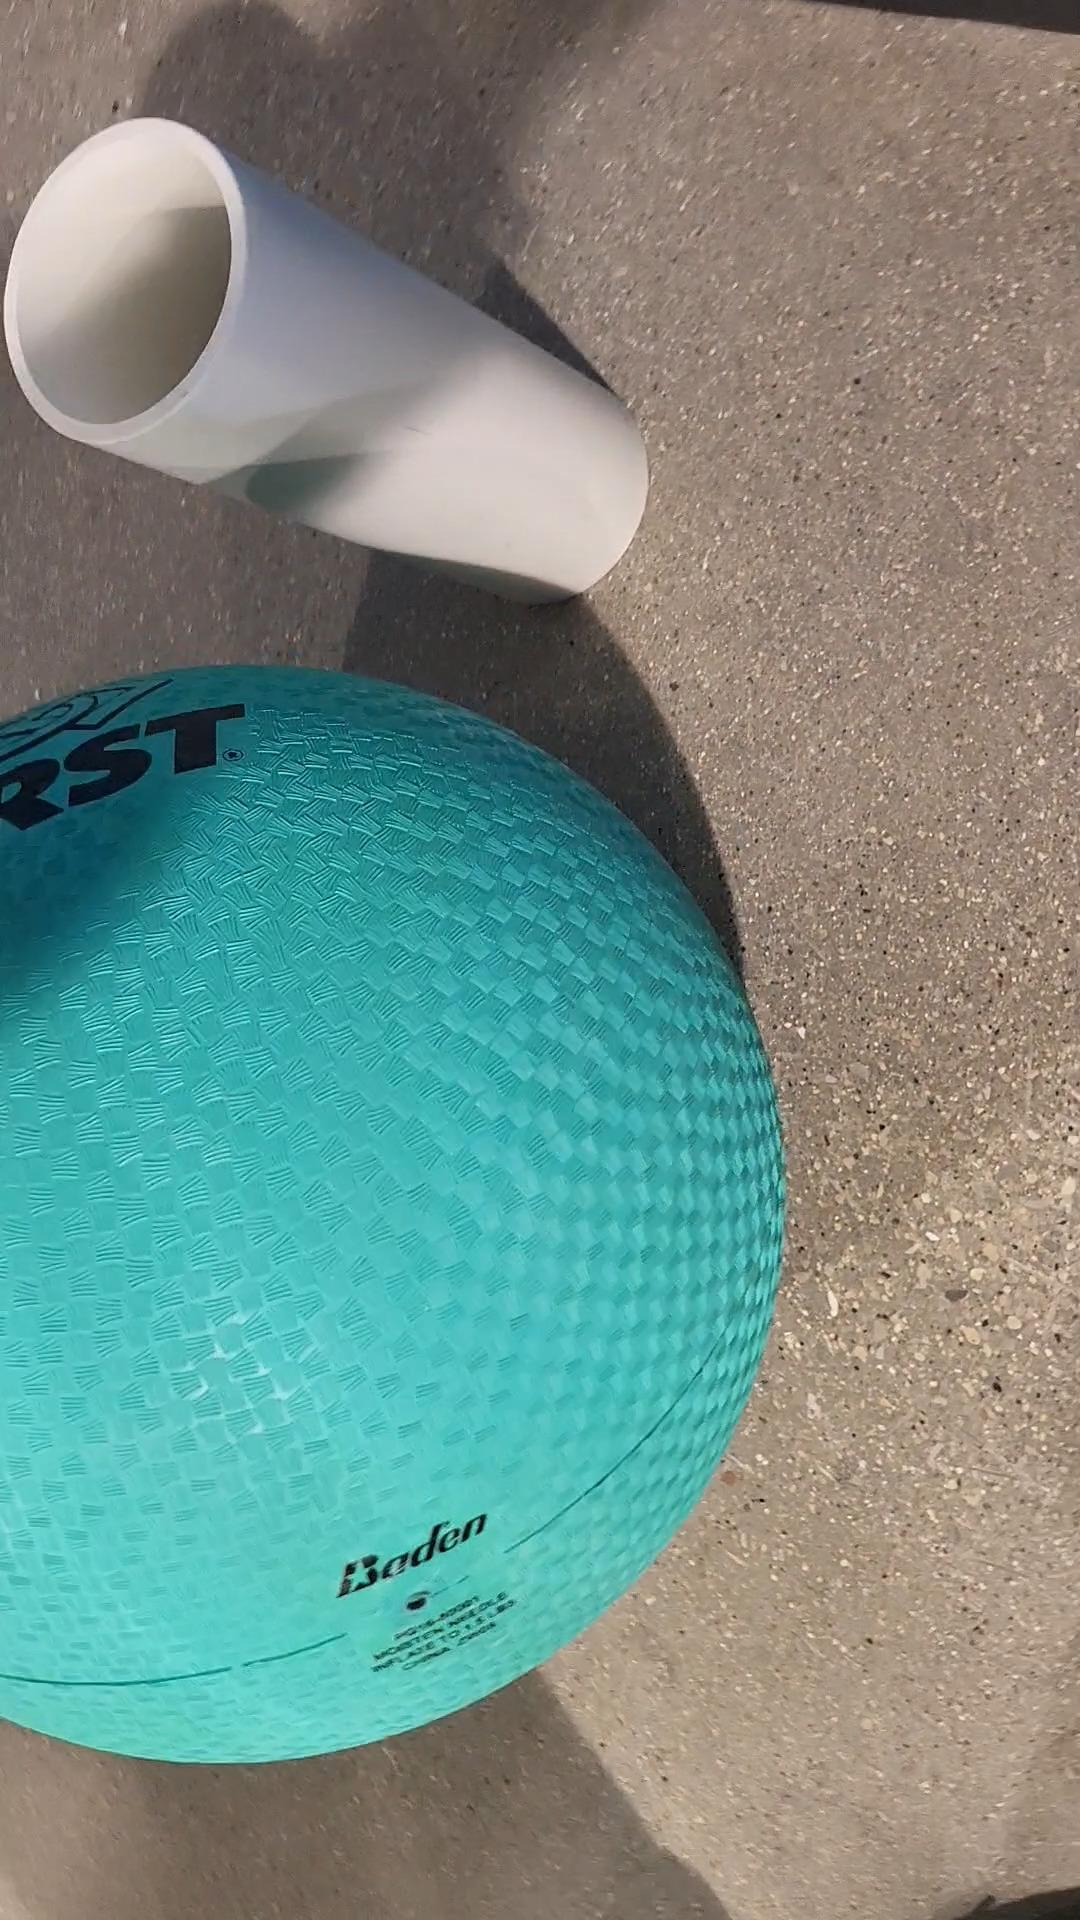algae: (0, 659, 781, 1763)
coral: (0, 117, 655, 605)
